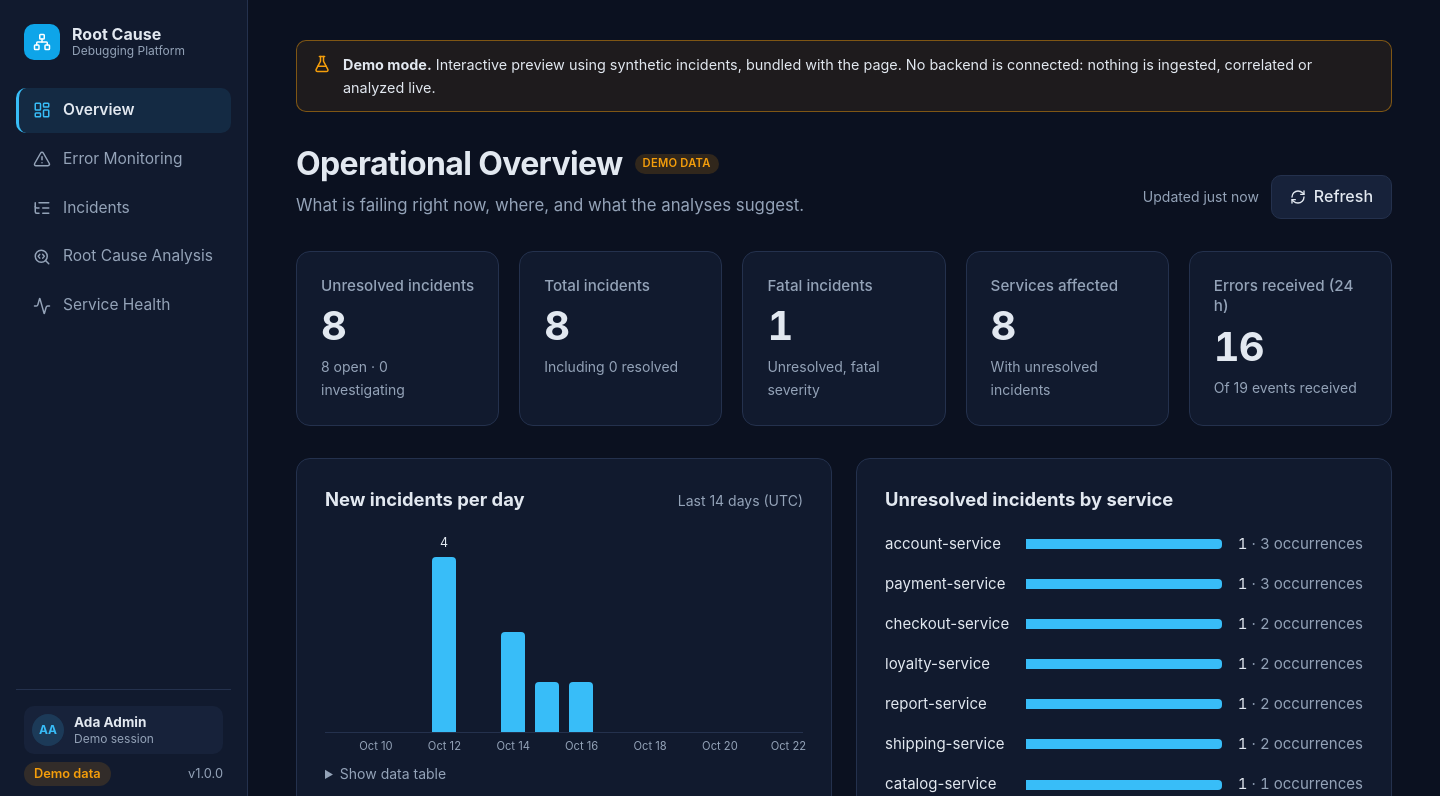
Test: demo mode › labels every page as demo data and makes no network requests
Expected: the element that starts with "Demo mode." is shown, left=343, top=56, right=432, bottom=73
Expected: the text "Demo data" next to "Operational Overview" is shown, left=643, top=156, right=711, bottom=170
Click the link "Error Monitoring" at (108, 158), box left=33, top=149, right=182, bottom=168
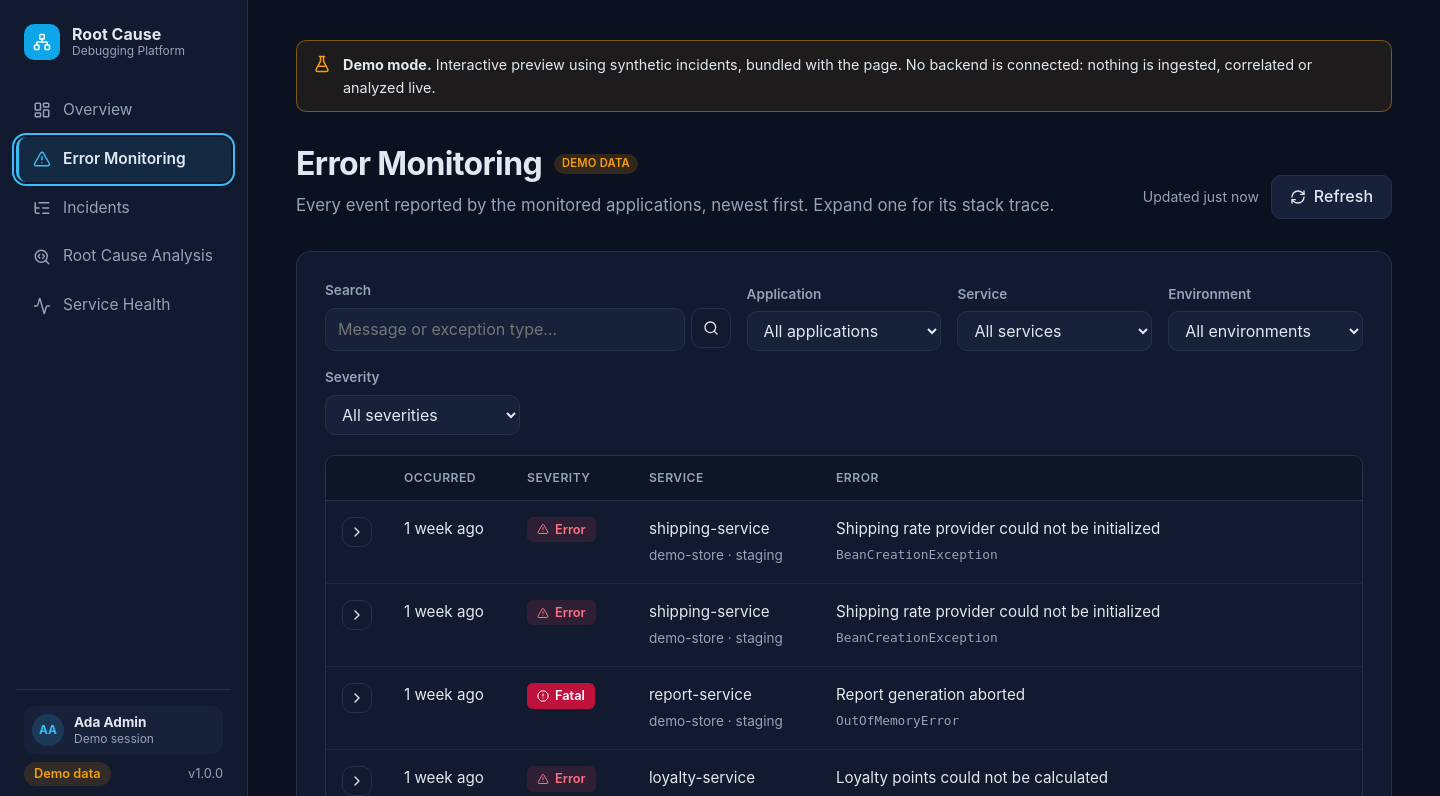
Expected: the text "Demo data" below "Demo mode." is shown, left=562, top=156, right=630, bottom=170
Expected: the heading "Error Monitoring" is shown, left=296, top=144, right=542, bottom=184
Click the link "Incidents" at (81, 207), box left=33, top=198, right=130, bottom=217
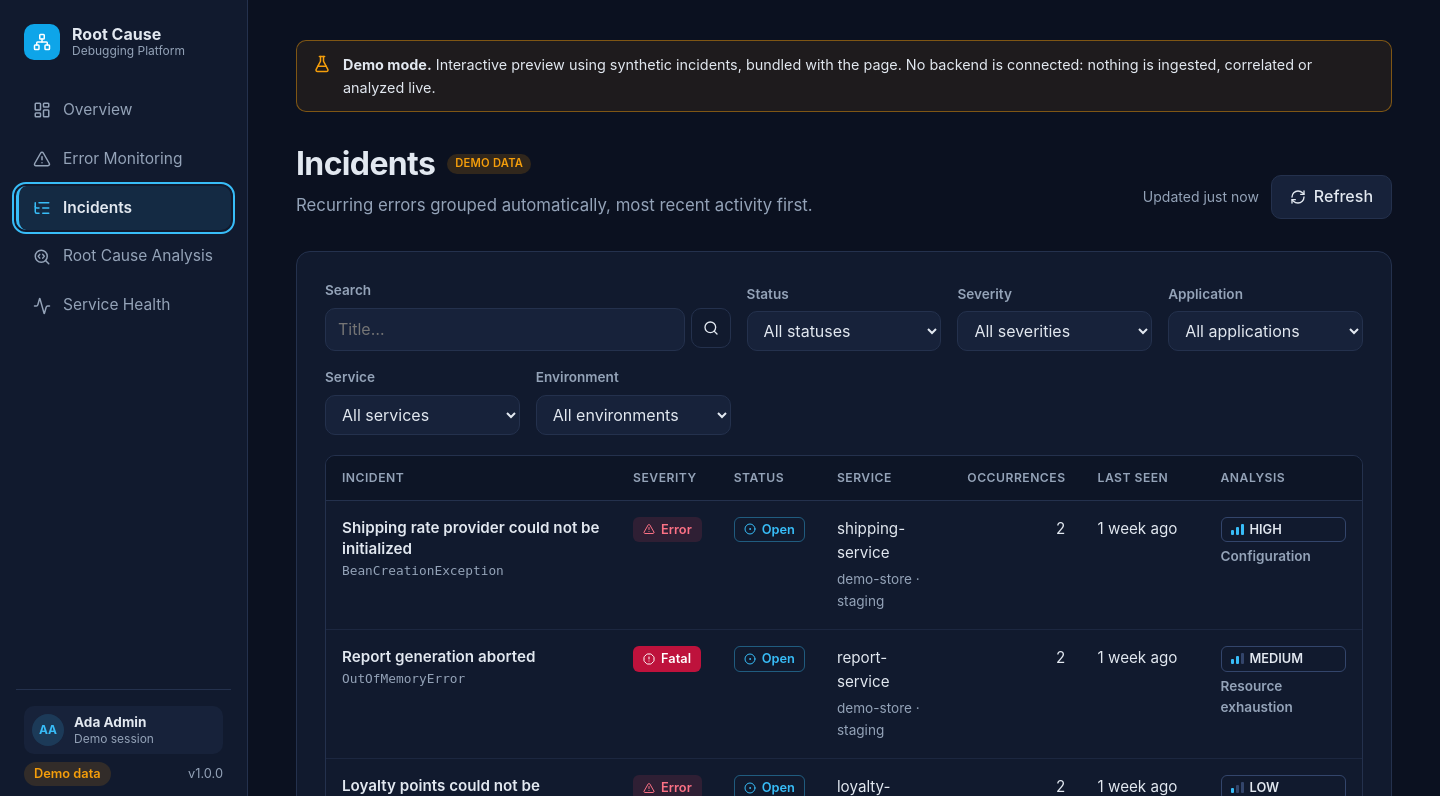
Expected: the text "Demo data" below "Demo mode." is shown, left=455, top=156, right=523, bottom=170
Expected: the heading "Incidents" is shown, left=296, top=144, right=435, bottom=184
Click the link "Root Cause Analysis" at (123, 256), box left=33, top=246, right=213, bottom=266
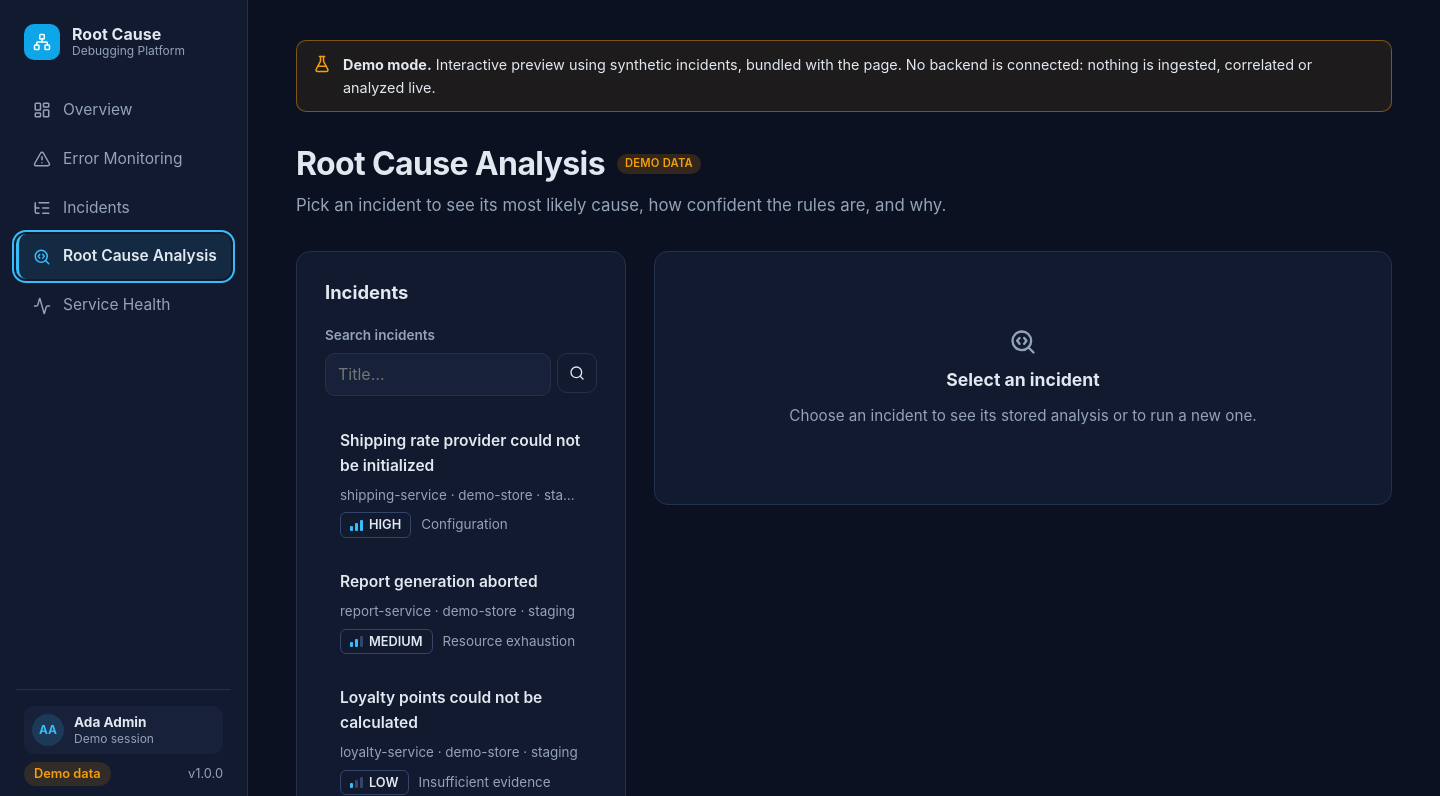
Expected: the text "Demo data" below "Demo mode." is shown, left=625, top=156, right=693, bottom=170
Expected: the heading "Root Cause Analysis" is shown, left=296, top=144, right=605, bottom=184
Click the link "Service Health" at (102, 305), box left=33, top=295, right=170, bottom=315
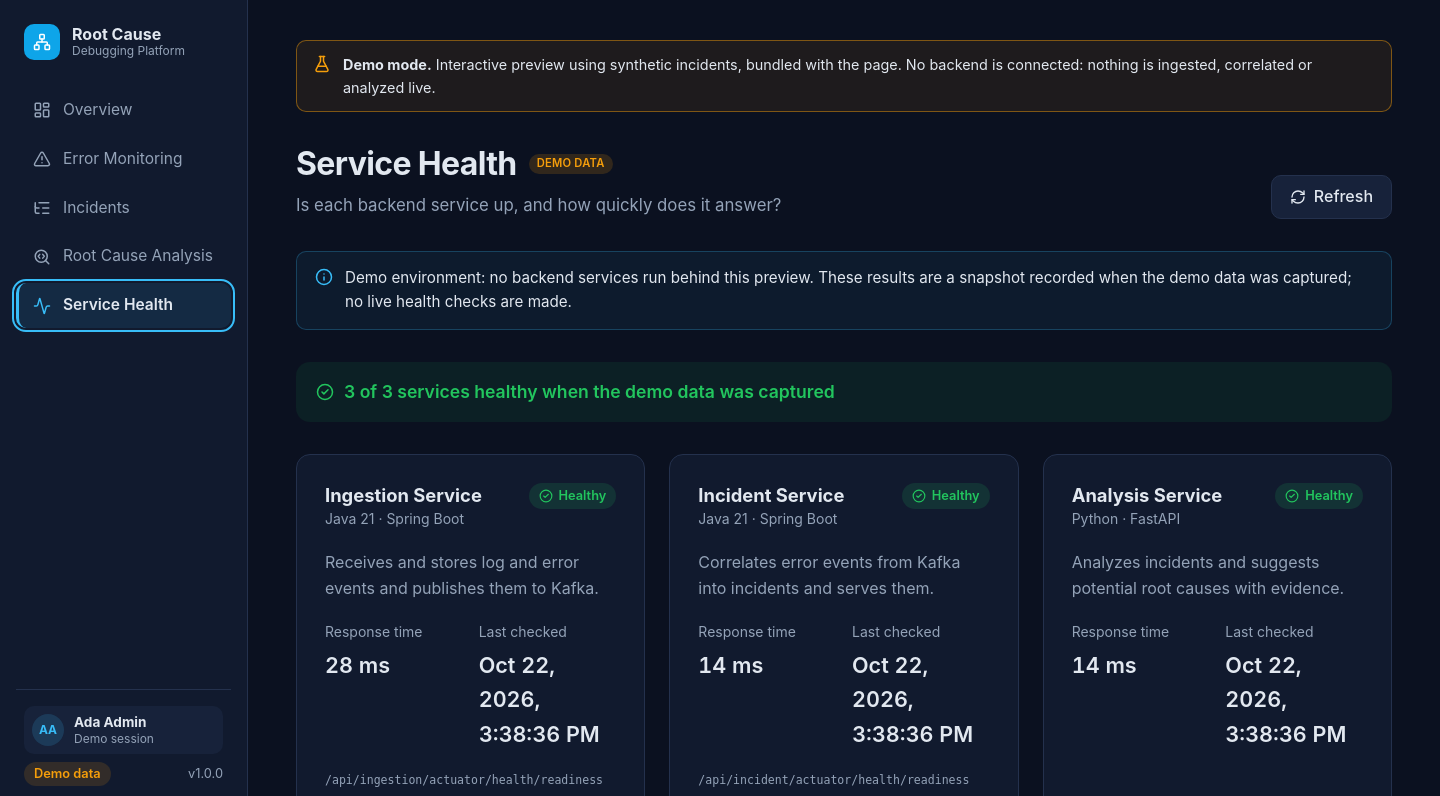
Expected: the text "Demo data" below "Demo mode." is shown, left=537, top=156, right=605, bottom=170
Expected: the heading "Service Health" is shown, left=296, top=144, right=517, bottom=184
